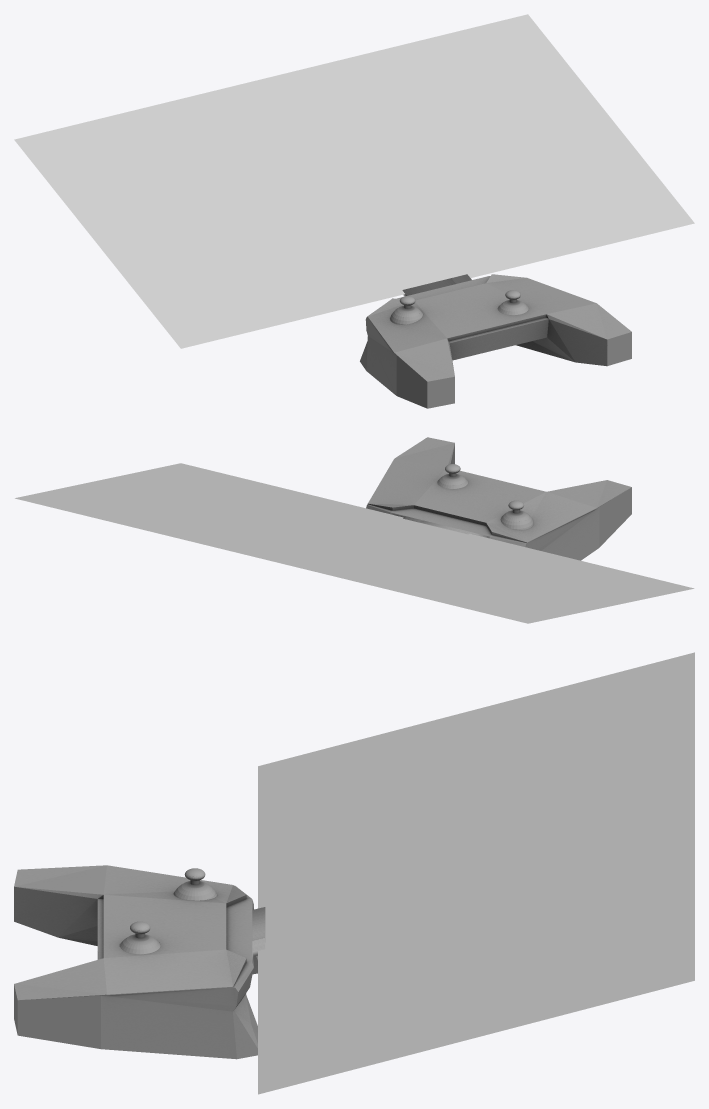
Rendered from manette.fbx.
3 views of the same model, one above another, from view 1: azimuth 30°, elevation 25°; view 2: azimuth 150°, elevation 25°; view 3: azimuth 270°, elevation 25° (orthographic). The views are drawn at different scales.
Parts seen in each view (by area): view 1: Screen, manette, joyL; view 2: Screen, manette, joyL, joyR; view 3: Screen, manette, joyL, joyR.
Boxes of the visible parts, x1=… form: Screen: x1=14, y1=14, x2=694, y2=348; manette: x1=360, y1=274, x2=631, y2=408; joyL: x1=390, y1=296, x2=422, y2=324; Screen: x1=15, y1=463, x2=694, y2=623; manette: x1=366, y1=437, x2=631, y2=560; joyL: x1=500, y1=500, x2=533, y2=529; joyR: x1=437, y1=464, x2=467, y2=488; Screen: x1=258, y1=652, x2=694, y2=1094; manette: x1=14, y1=865, x2=265, y2=1059; joyL: x1=173, y1=868, x2=216, y2=900; joyR: x1=120, y1=921, x2=160, y2=954.
Size of the model in its own units: 160 by 43.58 by 140.
